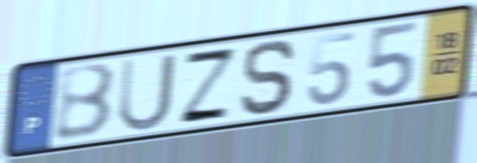5: (366, 18, 423, 101), (304, 28, 357, 107)
B: (52, 60, 119, 144)
S: (237, 37, 299, 118)
U: (116, 50, 179, 135)
Z: (175, 46, 241, 126)
